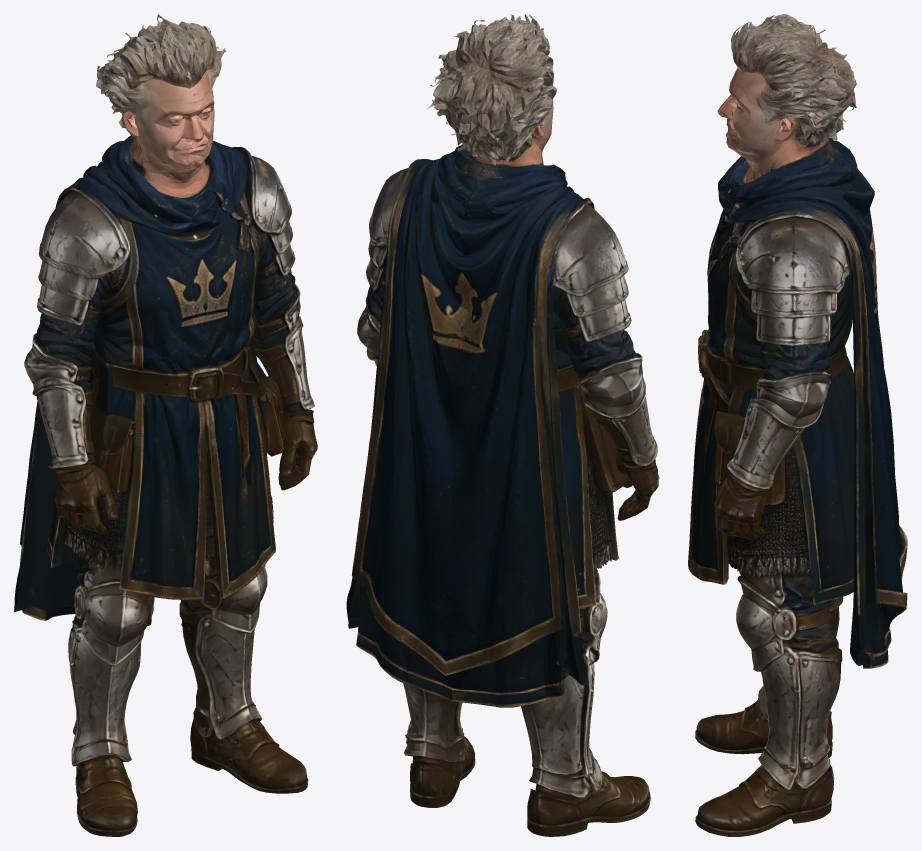
Rendered from Lee Pikeman_pbr.glb.
3 views of the same model, side by side, from view 1: azimuth 30°, elevation 25°; view 2: azimuth 150°, elevation 25°; view 3: azimuth 270°, elevation 25° (orthographic). The views are drawn at different scales.
Visible parts, largest first — view 1: model; view 2: model; view 3: model.
Part boxes in pixels (x1,y1,x2,y2): model: [14, 14, 317, 836]; model: [346, 14, 659, 836]; model: [688, 14, 907, 836].
Bounding box in the file's own units: 0.6981 × 1.89 × 0.4908.
Materials: 1 (1 with a texture image).
